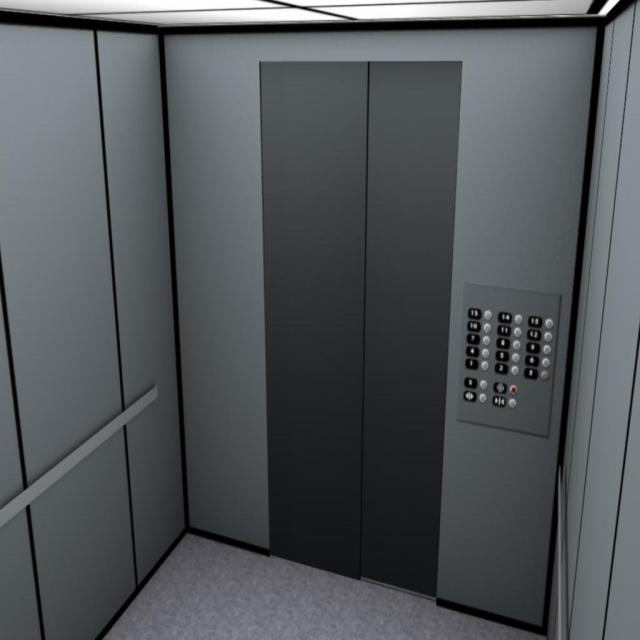1: (464, 357, 479, 370)
10: (466, 320, 481, 332)
11: (496, 323, 511, 335)
12: (526, 328, 542, 340)
13: (467, 306, 482, 318)
14: (497, 309, 512, 323)
2: (494, 362, 508, 374)
3: (522, 367, 538, 379)
4: (464, 345, 480, 357)
7: (466, 333, 480, 344)
blur: (492, 379, 507, 393), (494, 348, 510, 361), (526, 315, 543, 327), (524, 341, 542, 352), (463, 375, 478, 388), (495, 335, 510, 347), (524, 354, 540, 365), (509, 384, 517, 394)
close: (491, 394, 506, 406)
empty: (540, 369, 549, 381), (510, 365, 519, 375), (513, 327, 521, 338), (544, 317, 552, 328), (543, 331, 551, 342), (482, 322, 490, 332), (514, 314, 522, 324), (512, 339, 520, 349), (511, 352, 519, 362), (542, 344, 550, 354), (542, 356, 550, 366), (479, 379, 487, 389), (508, 398, 516, 408), (484, 309, 491, 320), (482, 334, 489, 345), (481, 360, 488, 371), (481, 348, 488, 358), (479, 392, 486, 402)
open: (462, 389, 476, 401)
